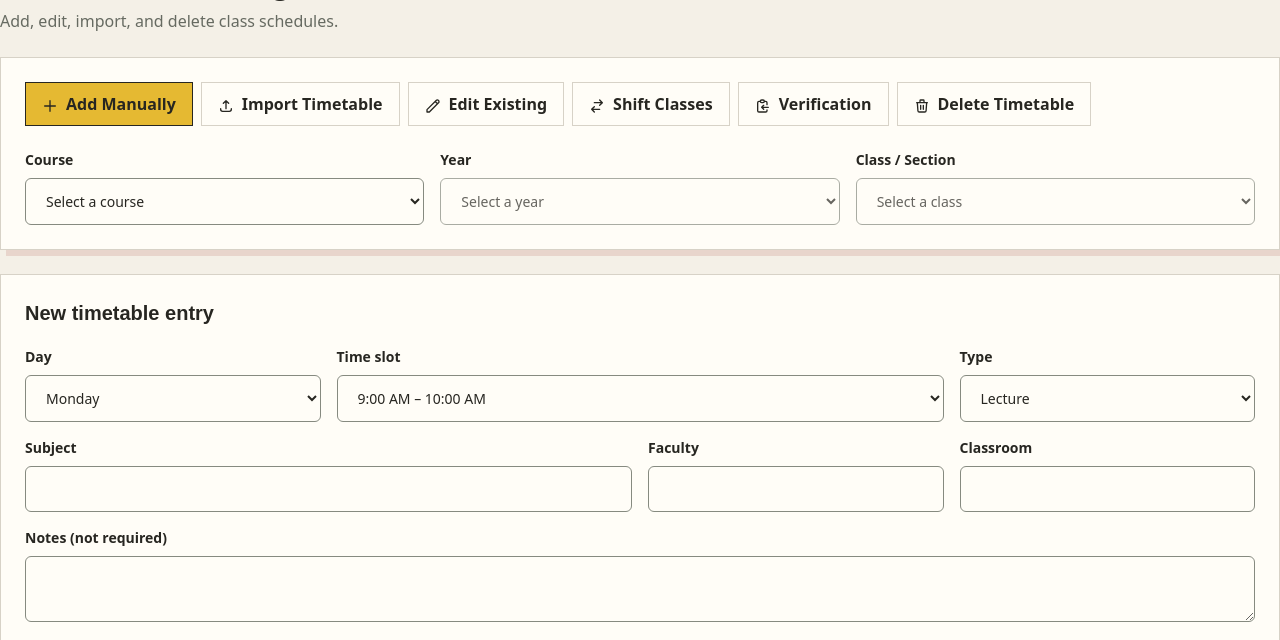
Test case: AdminTimetablePage › stays on the import form when the backend reads no rows
Select "B.Tech CSE AI" in the dropdown labelled "Course": (225, 202) [25,178,424,225]
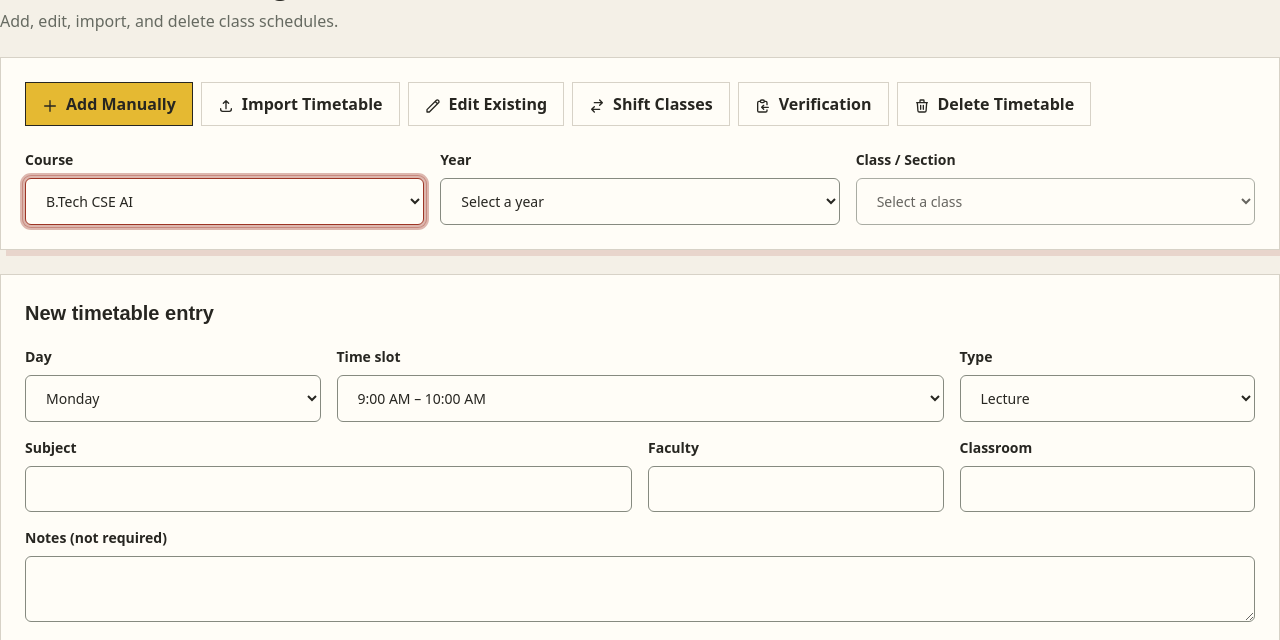
Select "Year 2" in the dropdown labelled "Year": (640, 202) [440,178,840,225]
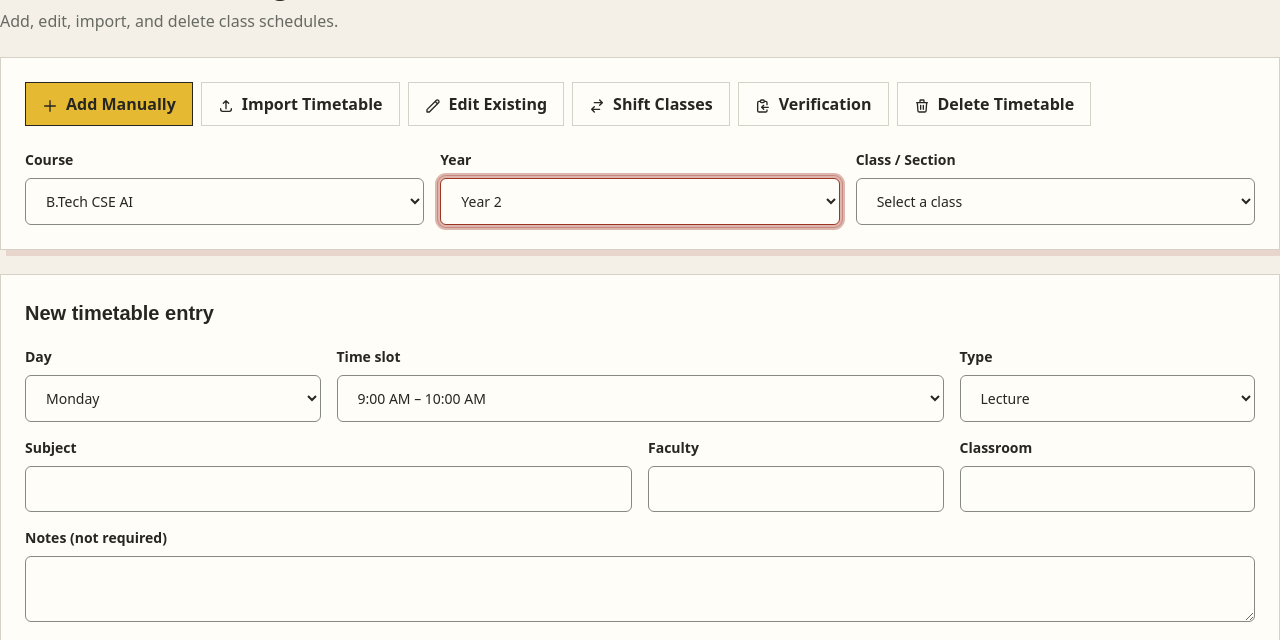
Select "CSAI2B" in the dropdown labelled "Class / Section": (1055, 202) [856,178,1255,225]
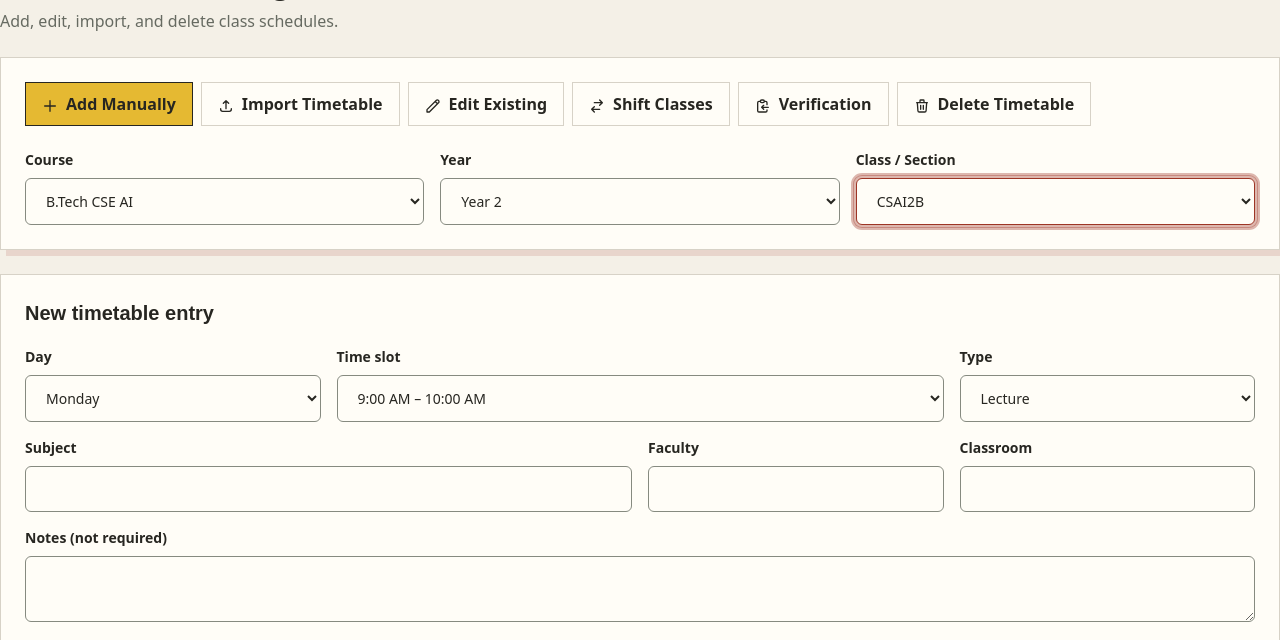
Click the tab "Import Timetable": (300, 104) [201,82,400,126]
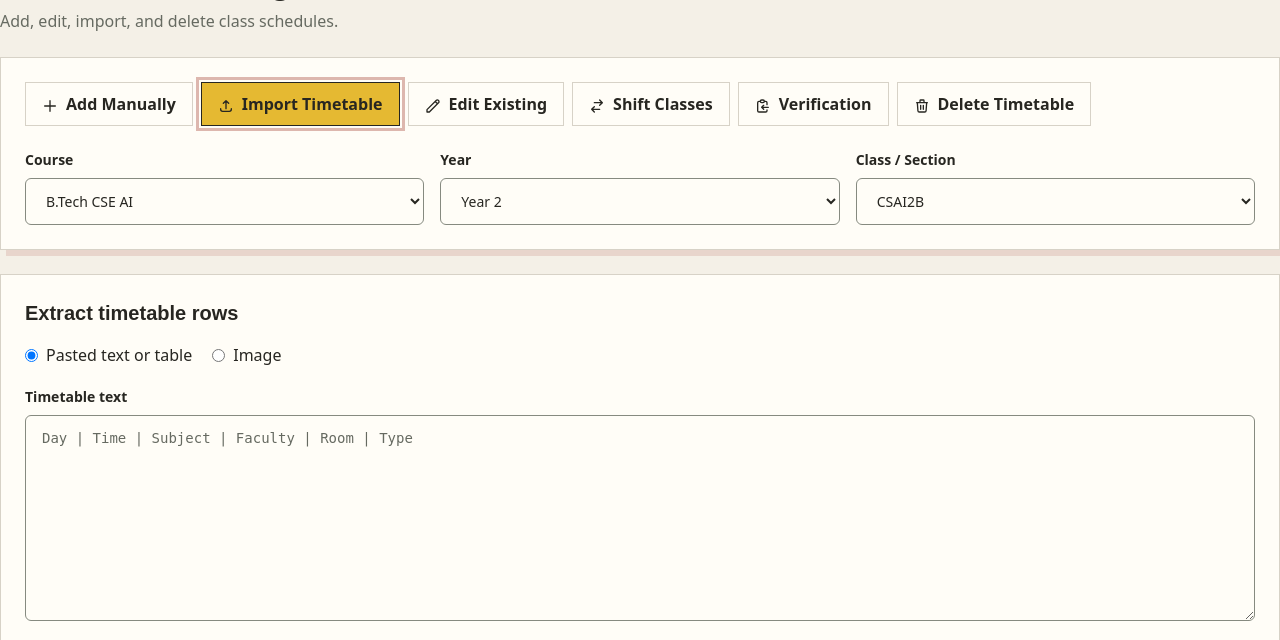
In the text box labelled "Timetable text": (640, 518) [25,415,1255,621], type "not a timetable"
(page scrolled)
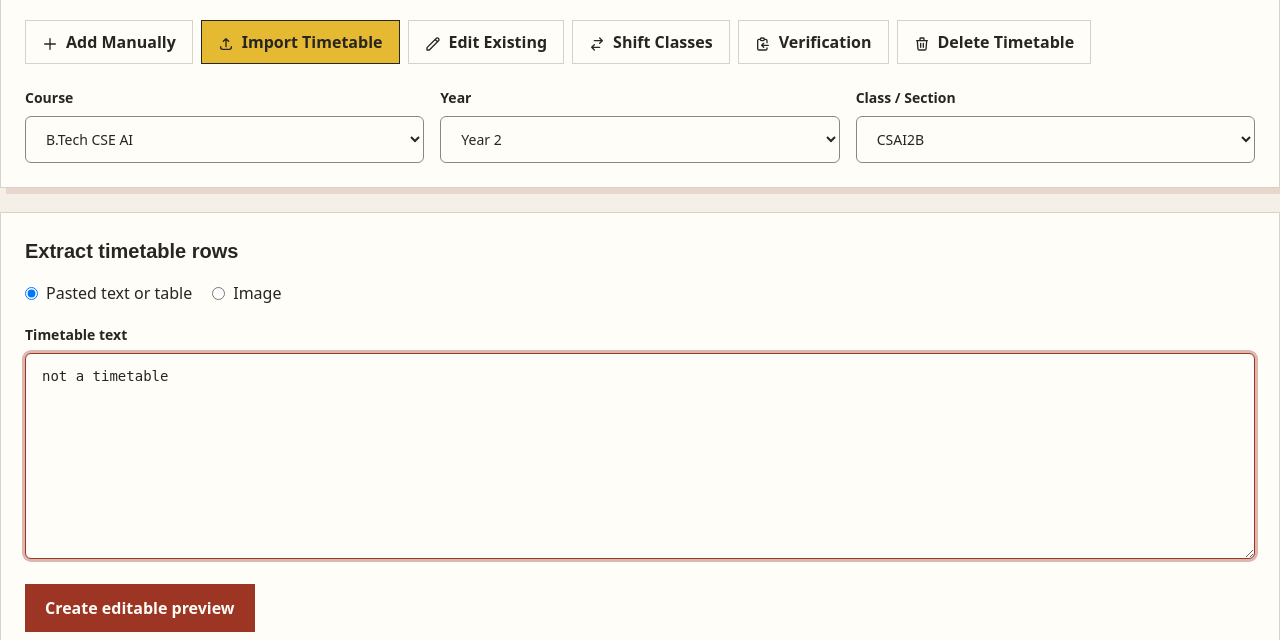
Click the button "Create editable preview": (140, 608) [25,584,254,632]
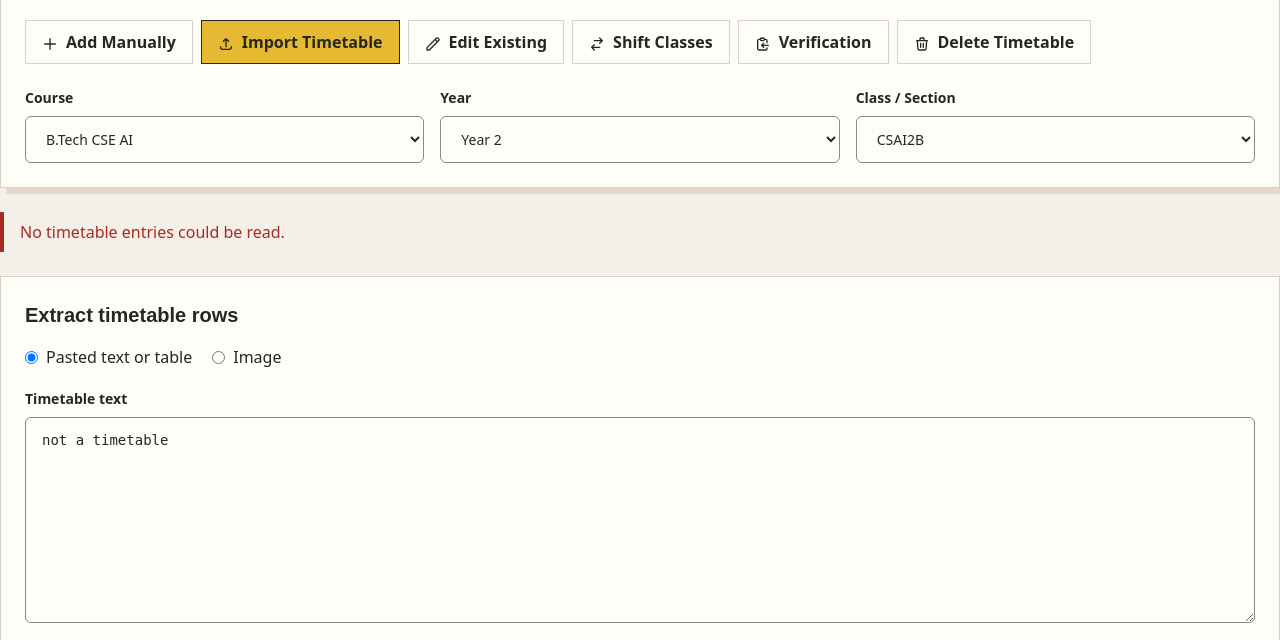
Expected: the text "No timetable entries could be read." is shown, [0,212,1279,252]
